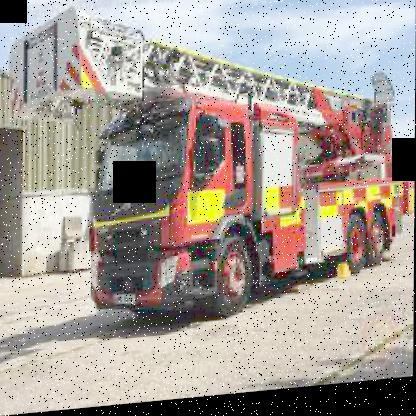emergency: (12, 0, 414, 363)
